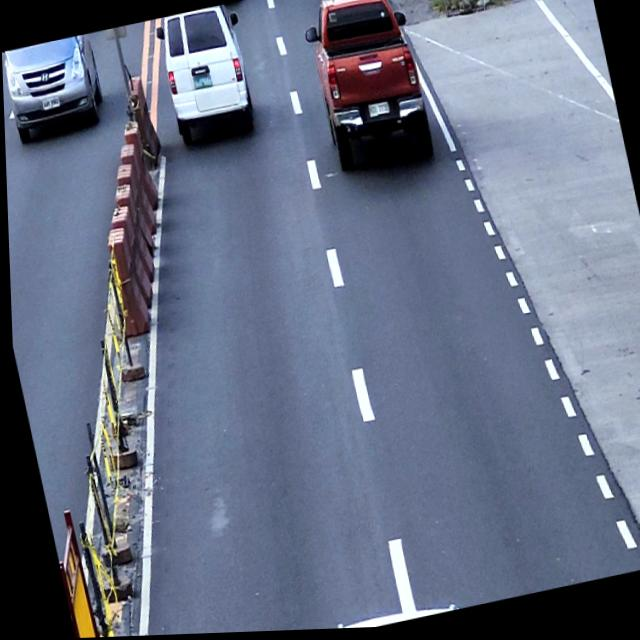Car: (295, 0, 435, 179), (152, 3, 260, 148), (1, 33, 108, 144)
License-Plate: (190, 73, 213, 93), (365, 102, 389, 121), (39, 95, 60, 111)
